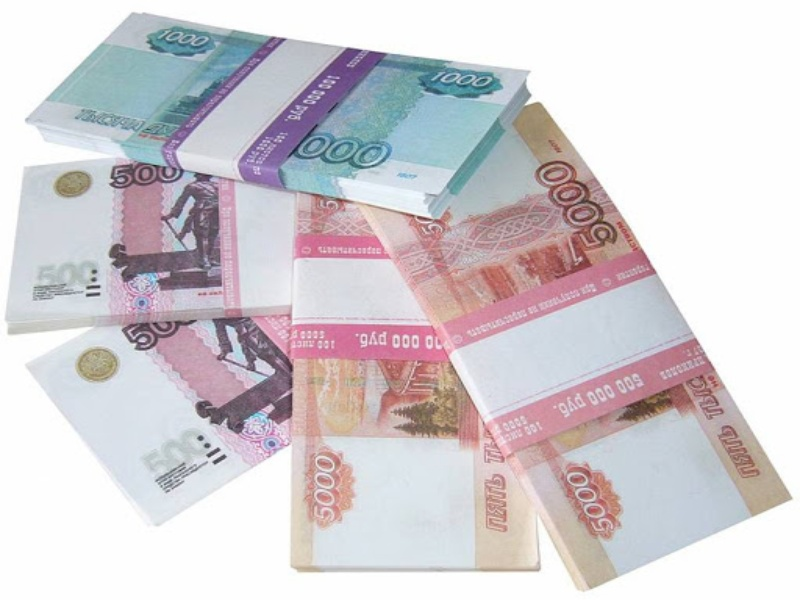cash: (356, 102, 793, 592), (26, 11, 532, 222), (295, 190, 538, 570), (28, 315, 297, 524), (5, 157, 293, 332)
